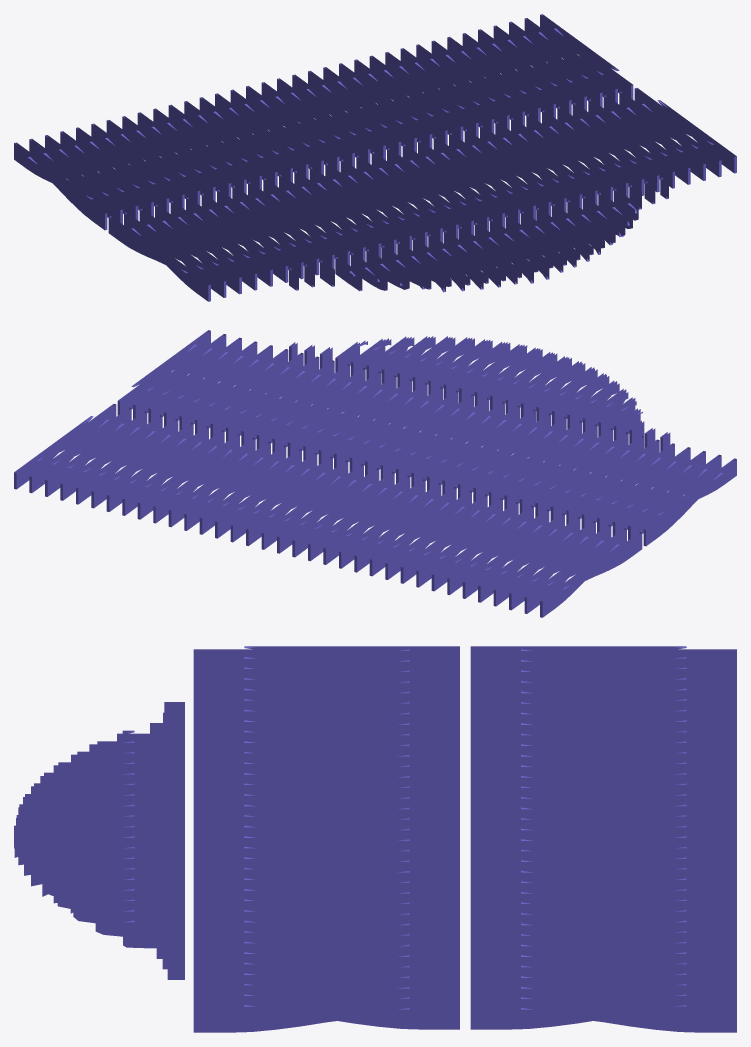
Rendered from S_CeilingWood.fbx.
3 views of the same model, one above another, from view 1: azimuth 30°, elevation 25°; view 2: azimuth 150°, elevation 25°; view 3: azimuth 270°, elevation 25° (orthographic). The views are drawn at different scales.
Parts seen in each view (by area): view 1: S_CeilingWood; view 2: S_CeilingWood; view 3: S_CeilingWood.
Part boxes in pixels (x1=…): S_CeilingWood: x1=14, y1=14, x2=736, y2=301; S_CeilingWood: x1=14, y1=330, x2=736, y2=617; S_CeilingWood: x1=14, y1=646, x2=736, y2=1032.
Bounding box in the file's own units: 1485 × 44.08 × 1249.
